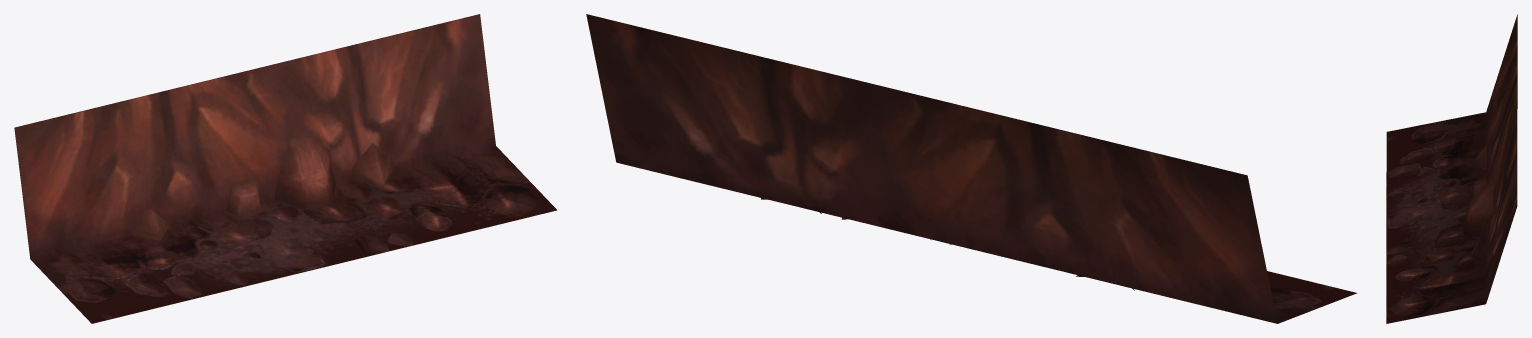
The model's file is lava_trim_straight_03.fbx.
The picture shows the model from 3 angles, left to right: view 1: azimuth 30°, elevation 25°; view 2: azimuth 150°, elevation 25°; view 3: azimuth 270°, elevation 25°; orthographic projection. The views are drawn at different scales.
Visible parts, largest first — view 1: lava_trim_straight_03-0; view 2: lava_trim_straight_03-0; view 3: lava_trim_straight_03-0.
Part boxes in pixels (x1=…): lava_trim_straight_03-0: x1=14, y1=14, x2=557, y2=323; lava_trim_straight_03-0: x1=586, y1=14, x2=1357, y2=323; lava_trim_straight_03-0: x1=1386, y1=14, x2=1517, y2=323.
Bounding box in the file's own units: 4.02 × 1.15 × 1.15.
